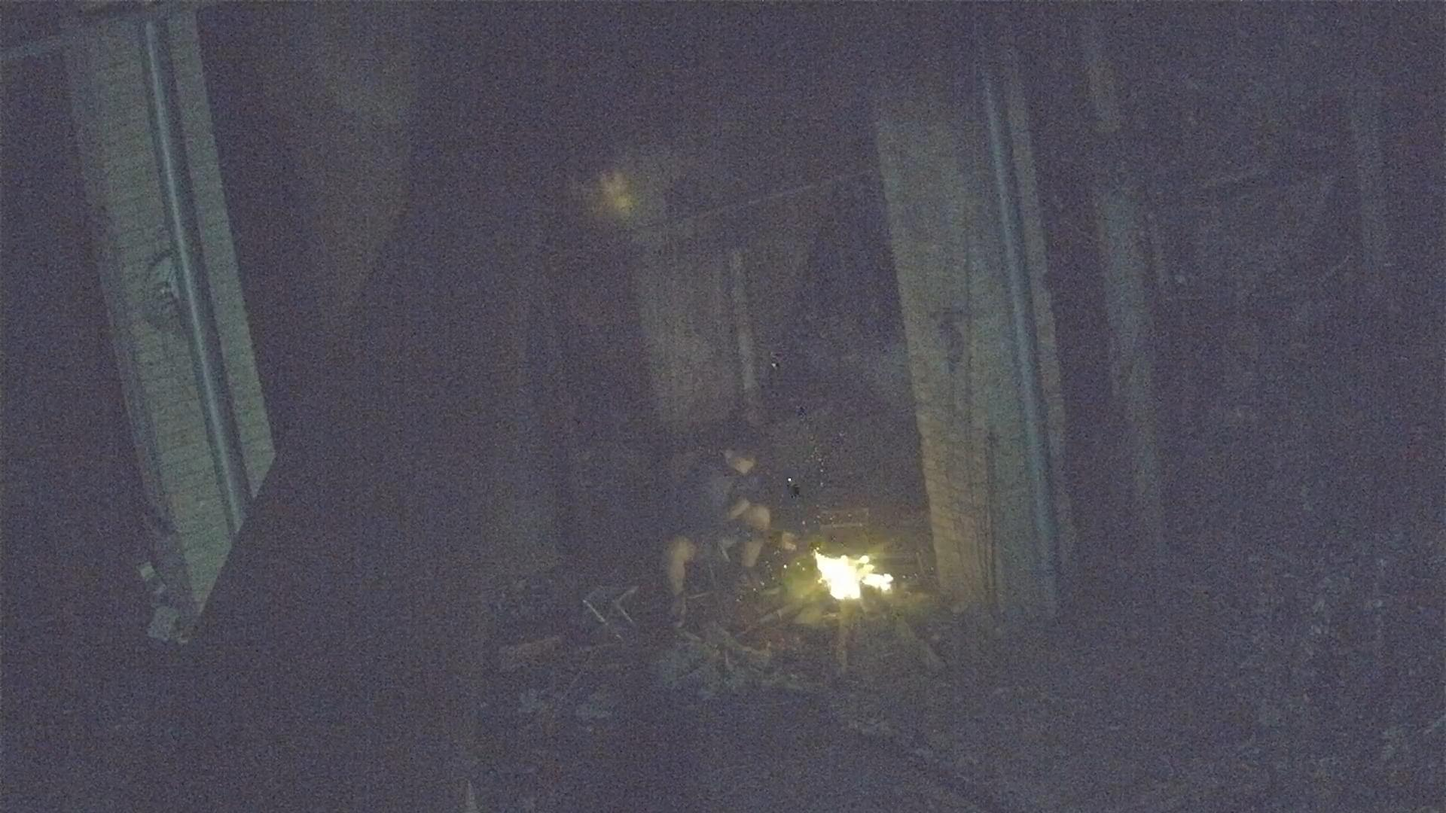fire: (813, 552, 892, 601)
